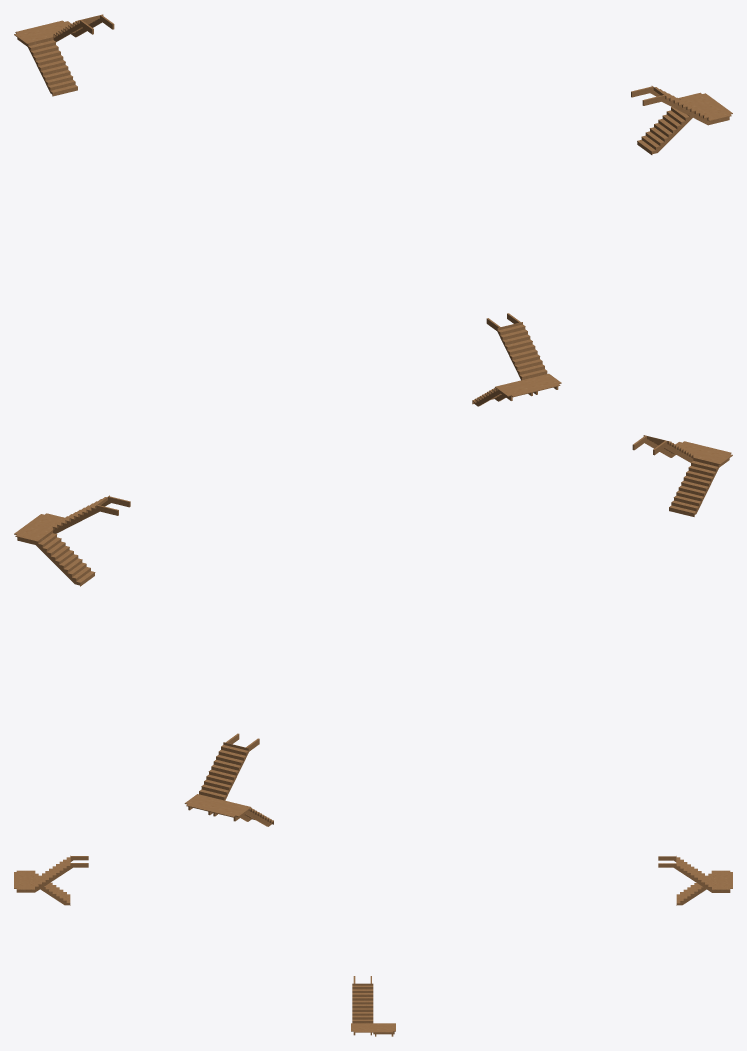
Rendered from mesh_com_bs_stairs.glb.
3 views of the same model, one above another, from view 1: azimuth 30°, elevation 25°; view 2: azimuth 150°, elevation 25°; view 3: azimuth 270°, elevation 25° (orthographic). The views are drawn at different scales.
Parts seen in each view (by area): view 1: mesh_com_bs_stairs; view 2: mesh_com_bs_stairs; view 3: mesh_com_bs_stairs.
Part boxes in pixels (x1=…): mesh_com_bs_stairs: x1=14, y1=14, x2=732, y2=406; mesh_com_bs_stairs: x1=14, y1=435, x2=732, y2=826; mesh_com_bs_stairs: x1=14, y1=855, x2=732, y2=1036.
Size of the model in its own units: 27.1 by 3.95 by 50.97.
1 material, 1 textured.
